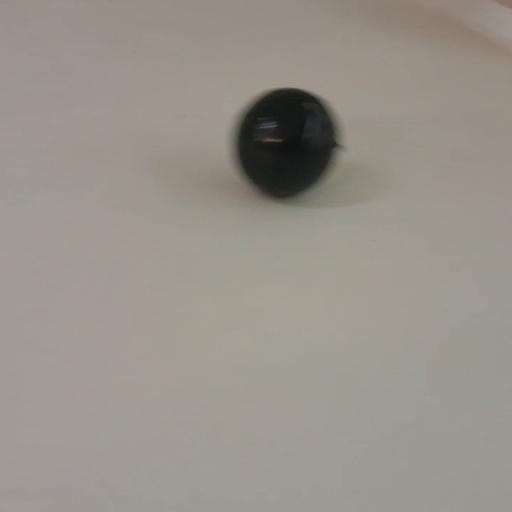dead: (232, 85, 344, 201)
